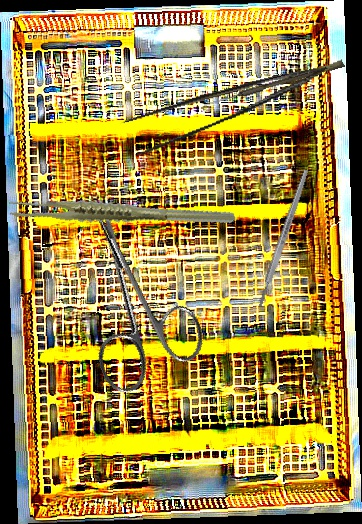Iris Scissors: (43, 181, 214, 399)
Scalpel Handle: (255, 168, 311, 309)
Surgical Spoon: (203, 59, 345, 110)
Tissue Forceps: (4, 161, 238, 266), (117, 59, 353, 158)
